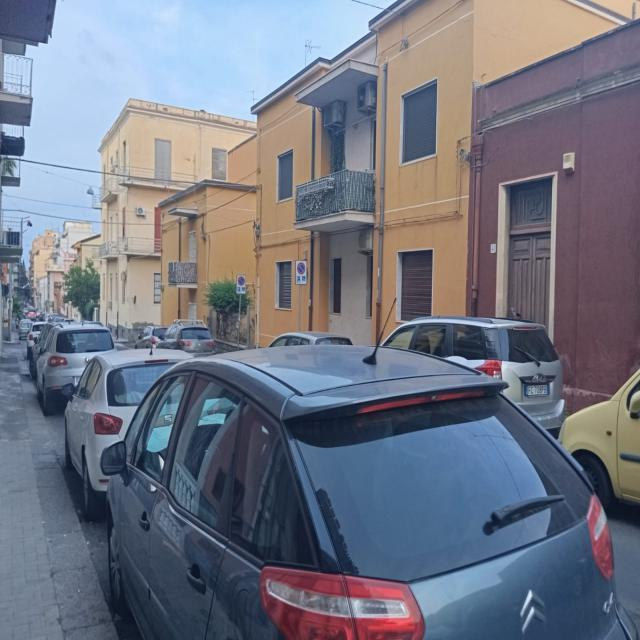forb_stopping: (297, 262, 306, 274), (237, 276, 245, 286)
